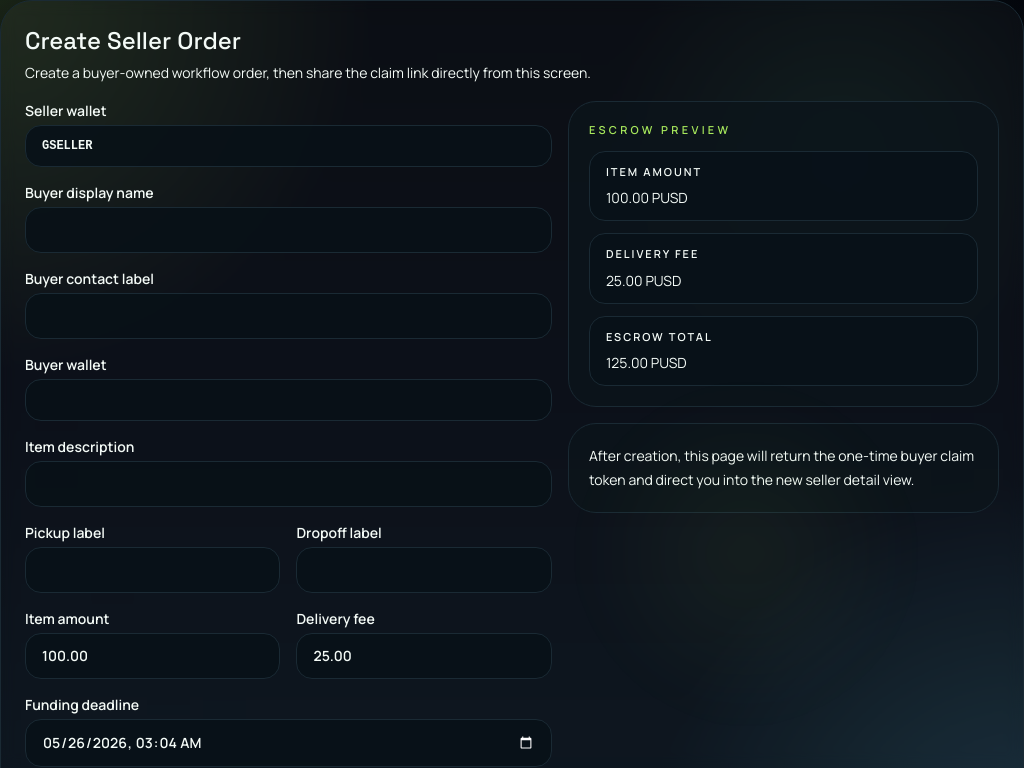
SellerNewOrderPage › creates a workflow order and shows the buyer claim link
In the field labelled "Buyer display name": (288, 230) [25,207,552,253], type "Buyer"
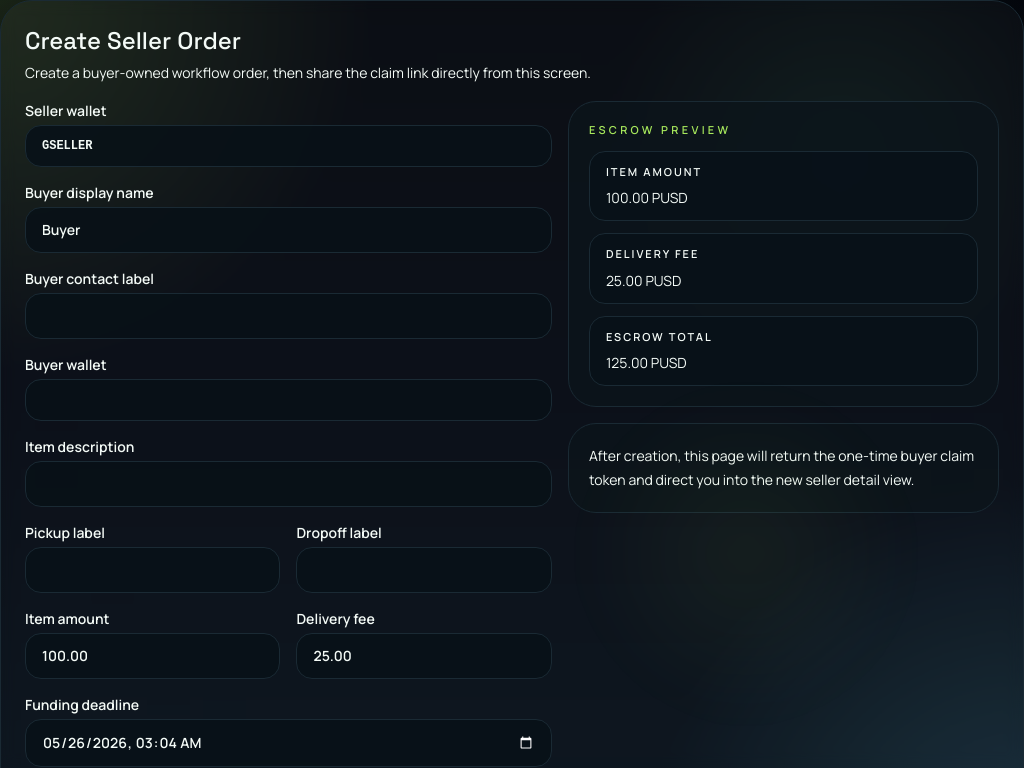
In the field labelled "Buyer wallet": (288, 400) [25,379,552,421], type "GBUYER"
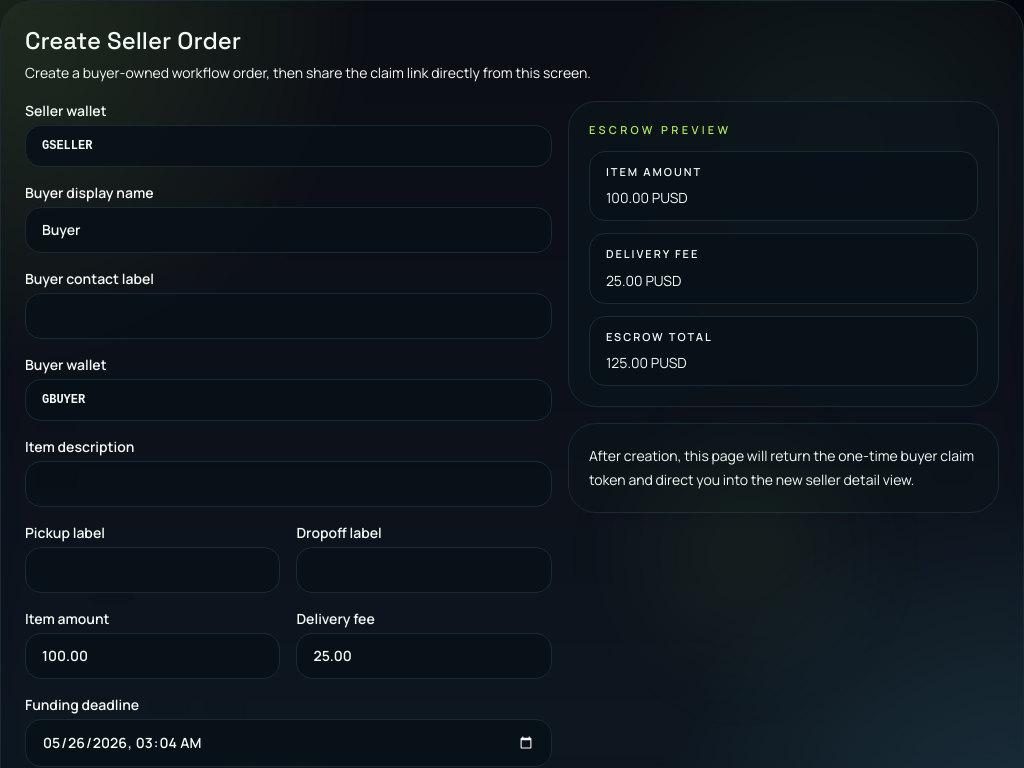
In the field labelled "Item description": (288, 484) [25,461,552,507], type "Parcel"
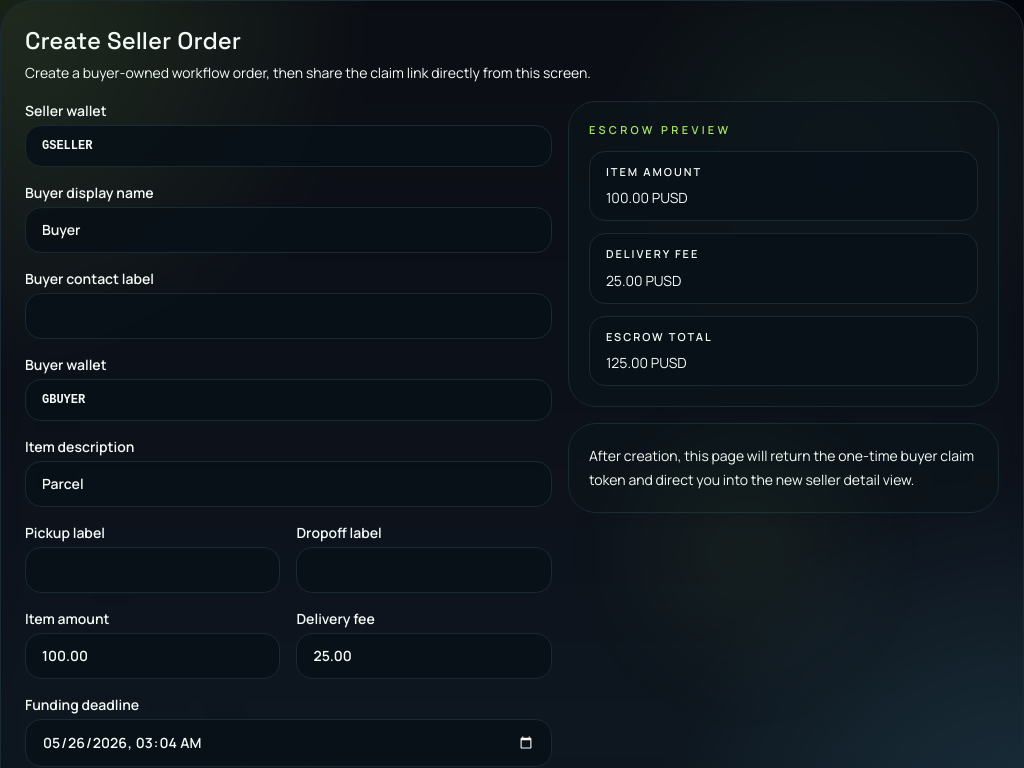
In the field labelled "Pickup label": (153, 570) [25,547,280,593], type "Pickup"
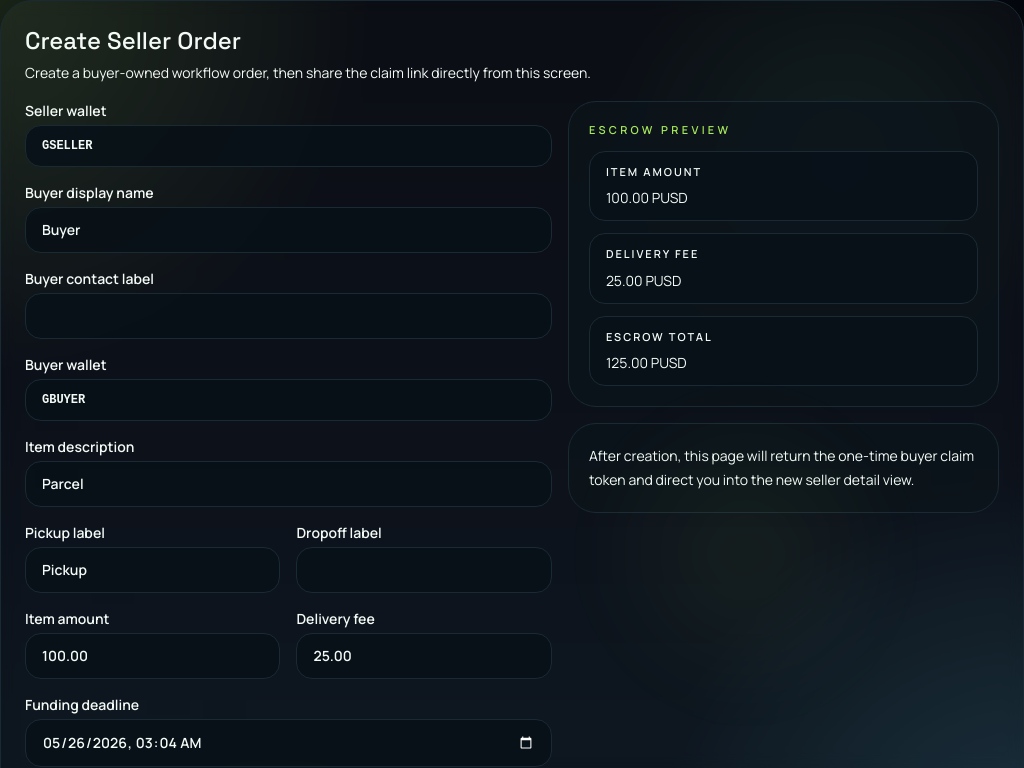
In the field labelled "Dropoff label": (424, 570) [296,547,552,593], type "Dropoff"
(page scrolled)
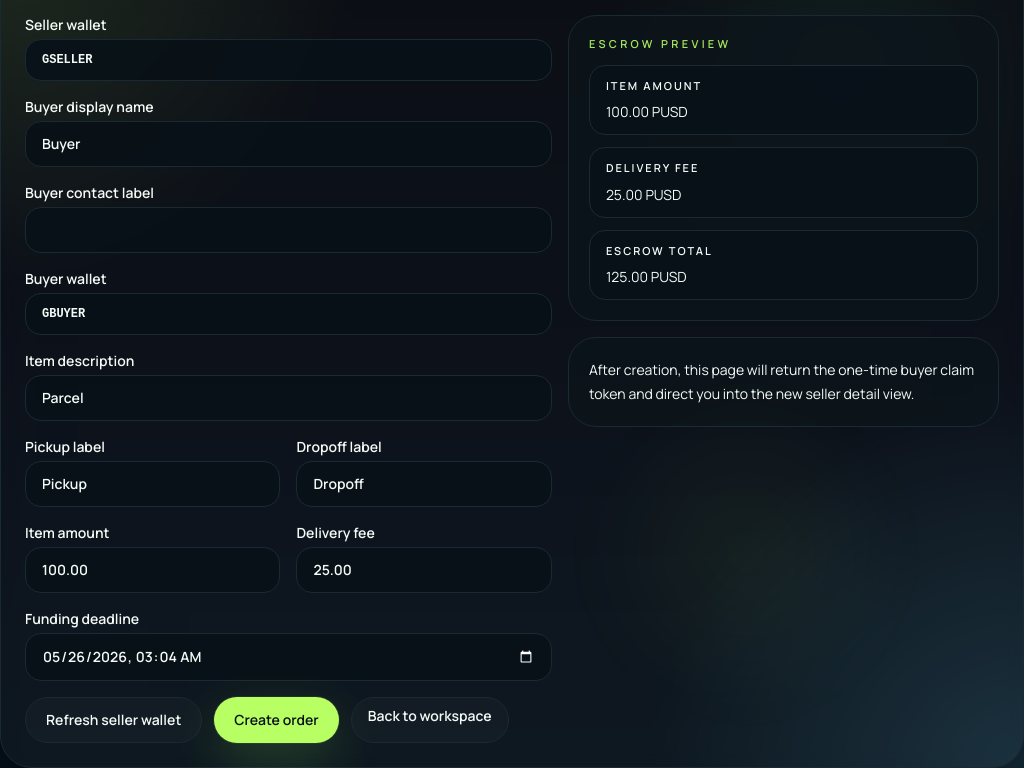
Click the button "Create order": (277, 720) [214,697,339,743]
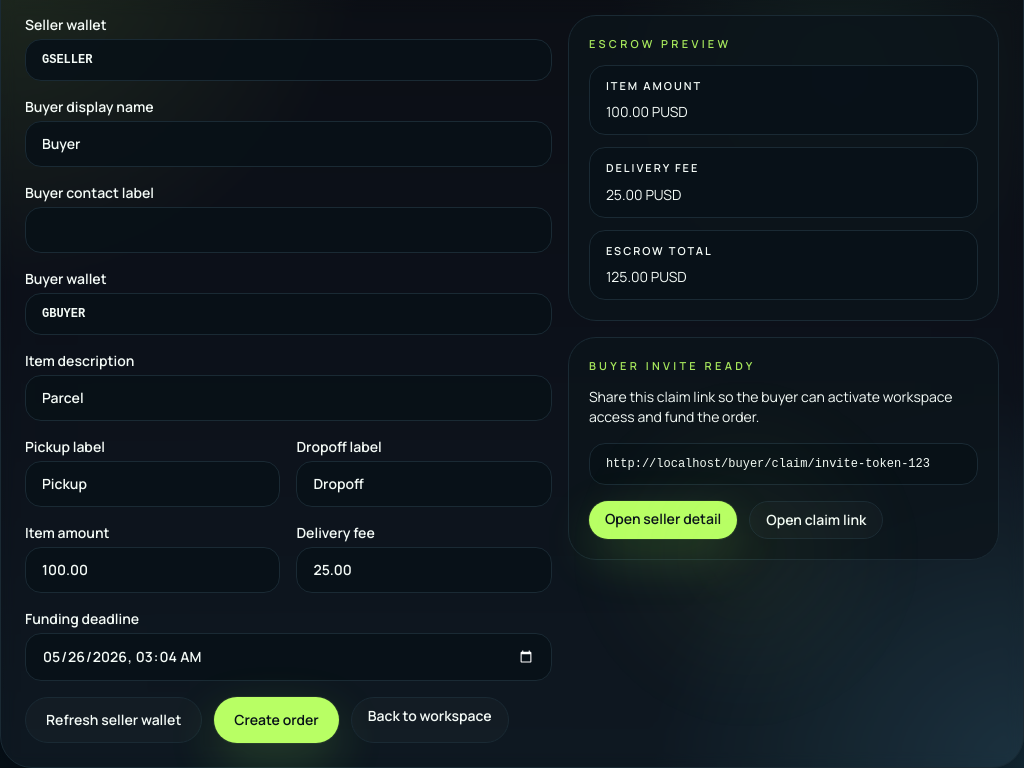
Now the field showing "buyer/claim/invite-token-123" is shown, box [589,442,978,484]
